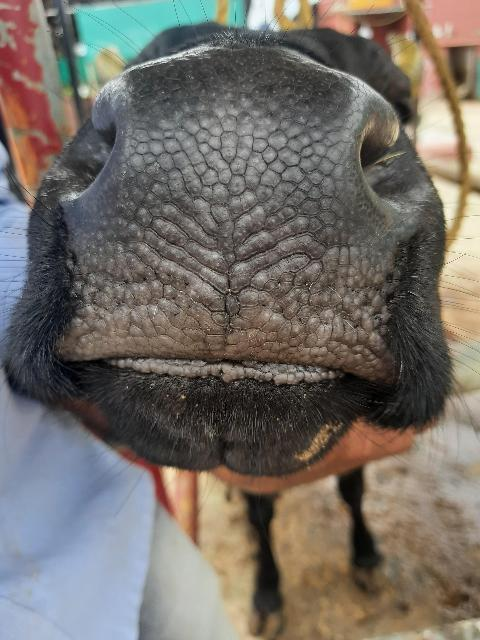Muzzle: (107, 72, 349, 374)
